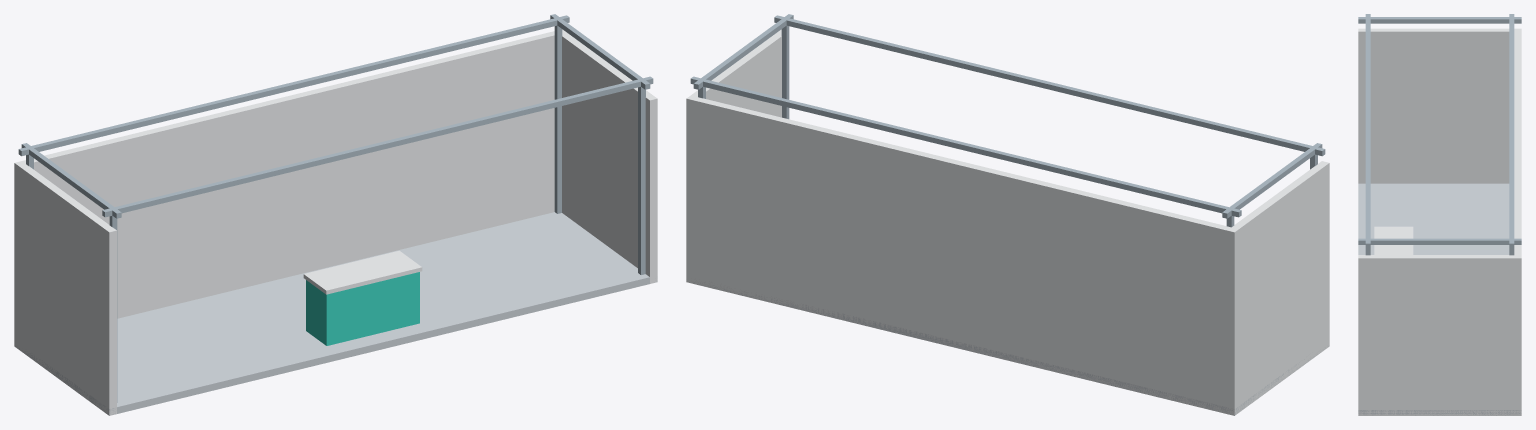
3 views of the same model, side by side, from view 1: azimuth 30°, elevation 25°; view 2: azimuth 150°, elevation 25°; view 3: azimuth 270°, elevation 25° (orthographic). The views are drawn at different scales.
Visible parts, largest first — view 1: Exhibition Booth Concept; view 2: Exhibition Booth Concept; view 3: Exhibition Booth Concept.
Part boxes in pixels (<box>): Exhibition Booth Concept: <box>14,14,657,415</box>; Exhibition Booth Concept: <box>686,14,1329,415</box>; Exhibition Booth Concept: <box>1358,14,1521,415</box>.
Bounding box in the file's own units: 10 × 3.49 × 3.
